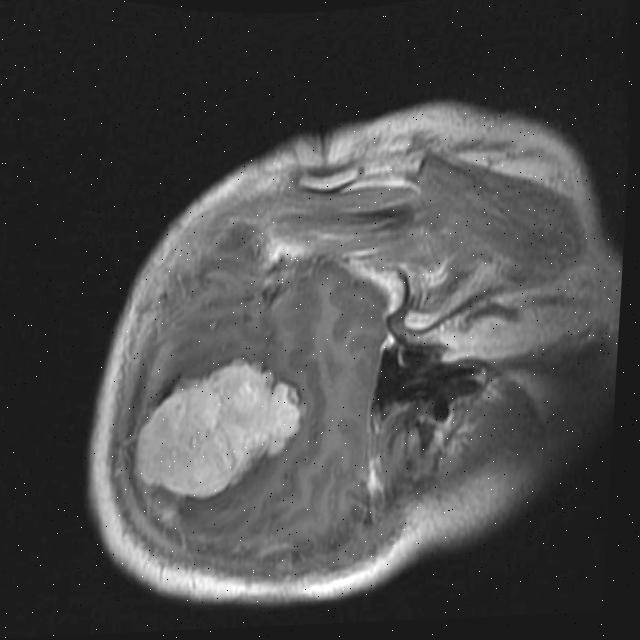Meningioma: (128, 350, 313, 504)
